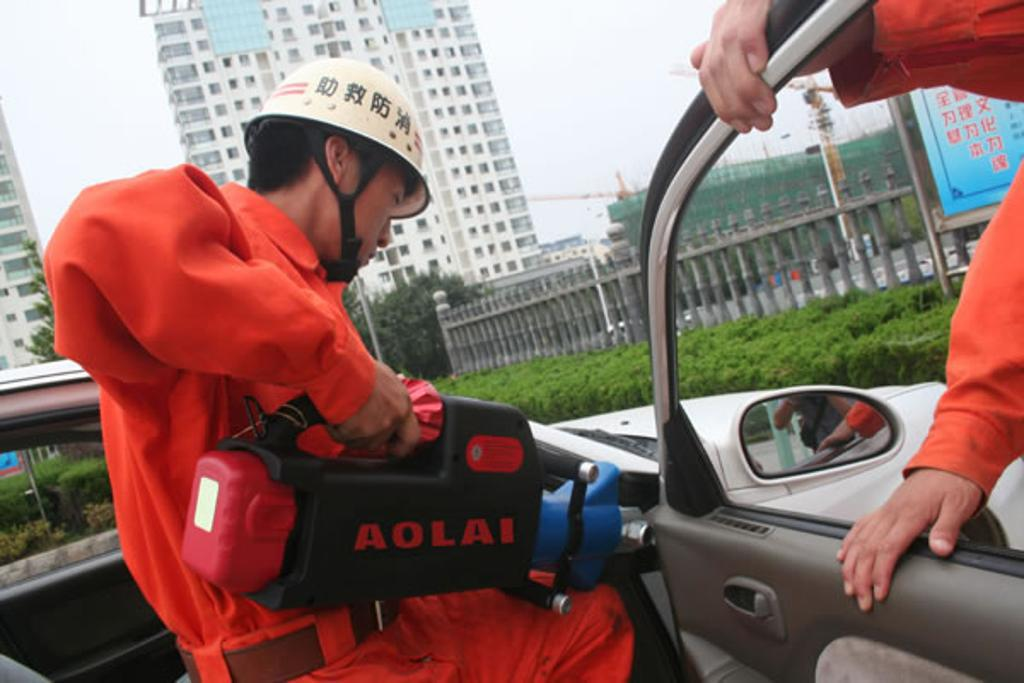face: (331, 159, 411, 279)
